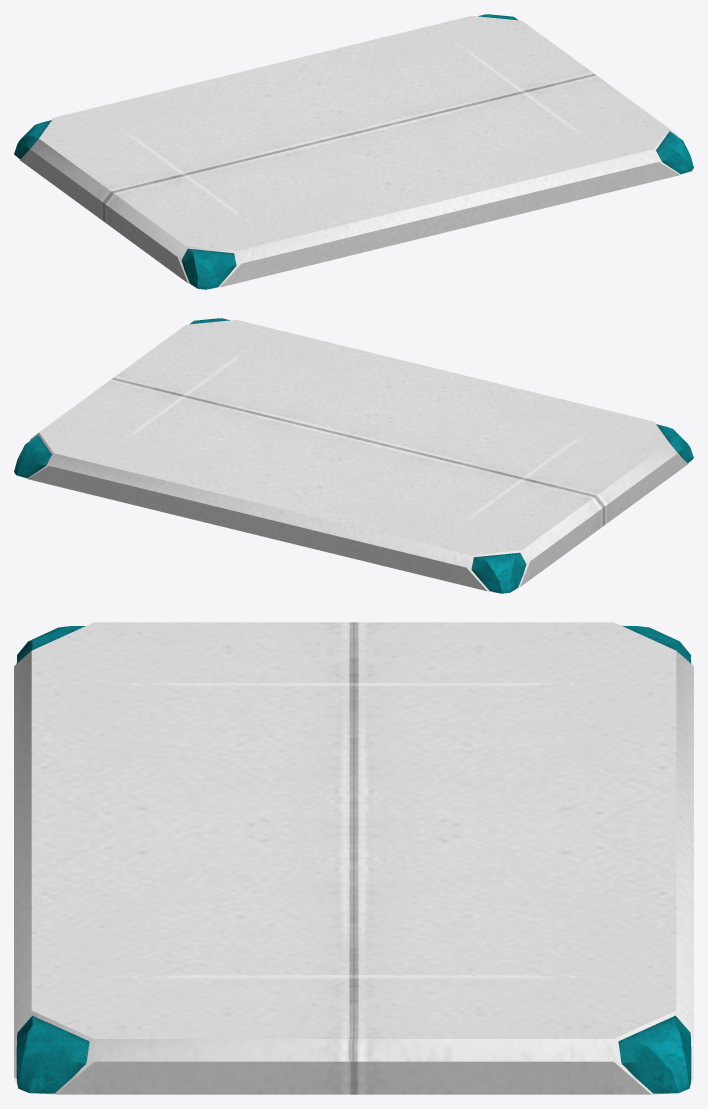
Rendered from Slot Platform Free.fbx.
3 renders of one model, top to bottom at view 1: azimuth 30°, elevation 25°; view 2: azimuth 150°, elevation 25°; view 3: azimuth 270°, elevation 25°, orthographic. The views are drawn at different scales.
Visible parts, largest first — view 1: Slot_Platform_Free; view 2: Slot_Platform_Free; view 3: Slot_Platform_Free.
Part boxes in pixels (left/top/right/bottom): Slot_Platform_Free: left=14, top=14, right=693, bottom=289; Slot_Platform_Free: left=14, top=318, right=693, bottom=593; Slot_Platform_Free: left=14, top=622, right=693, bottom=1094.
Bounding box in the file's own units: 300 × 15.79 × 200.
